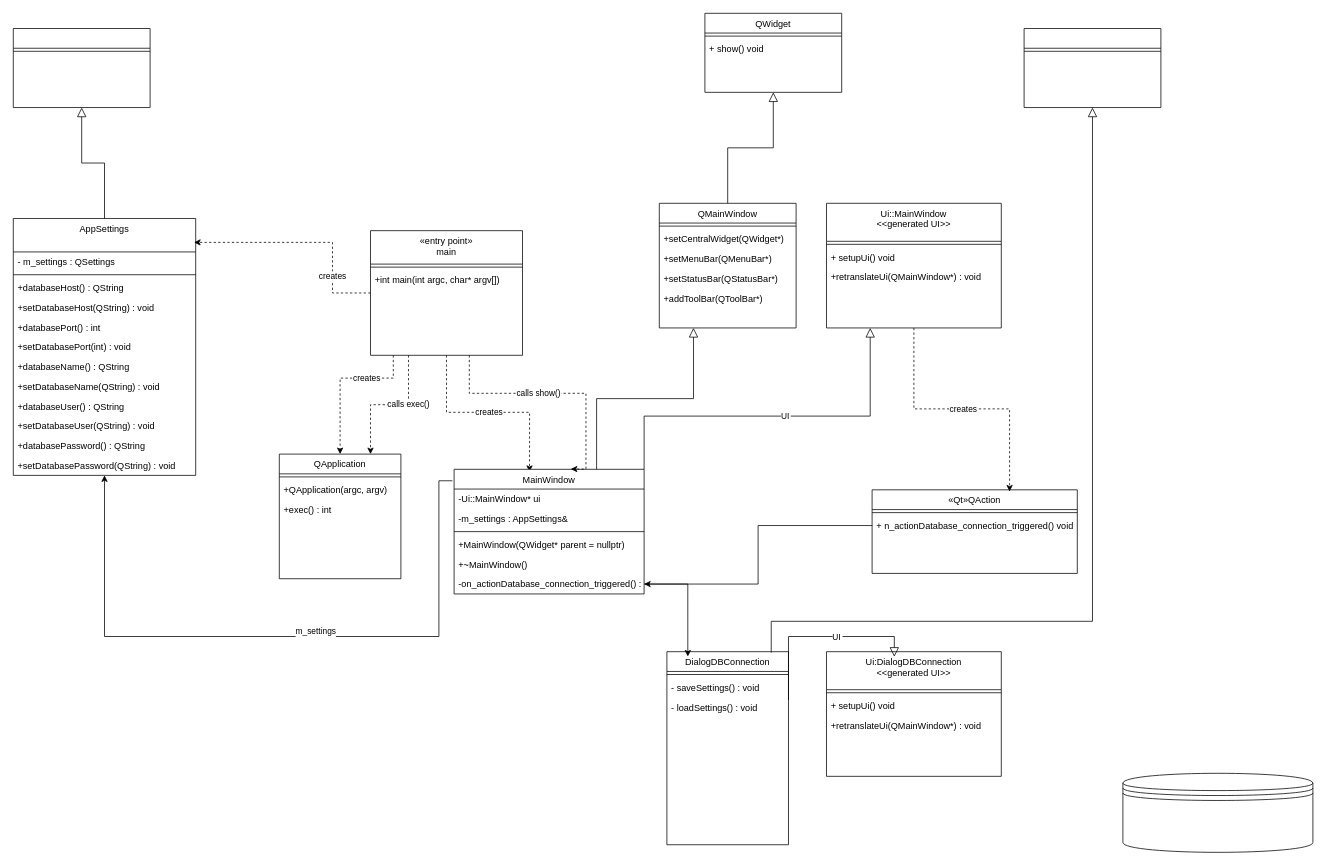
The diagram is 1326 pixels wide and 866 high, and some of its shapes have lost their labels. The centre of each missing label's shape, as x and y in pixels:
"Data Base" belongs at (1217,812).
"QDialog" belongs at (1092,68).
"QSettings" belongs at (81,68).
